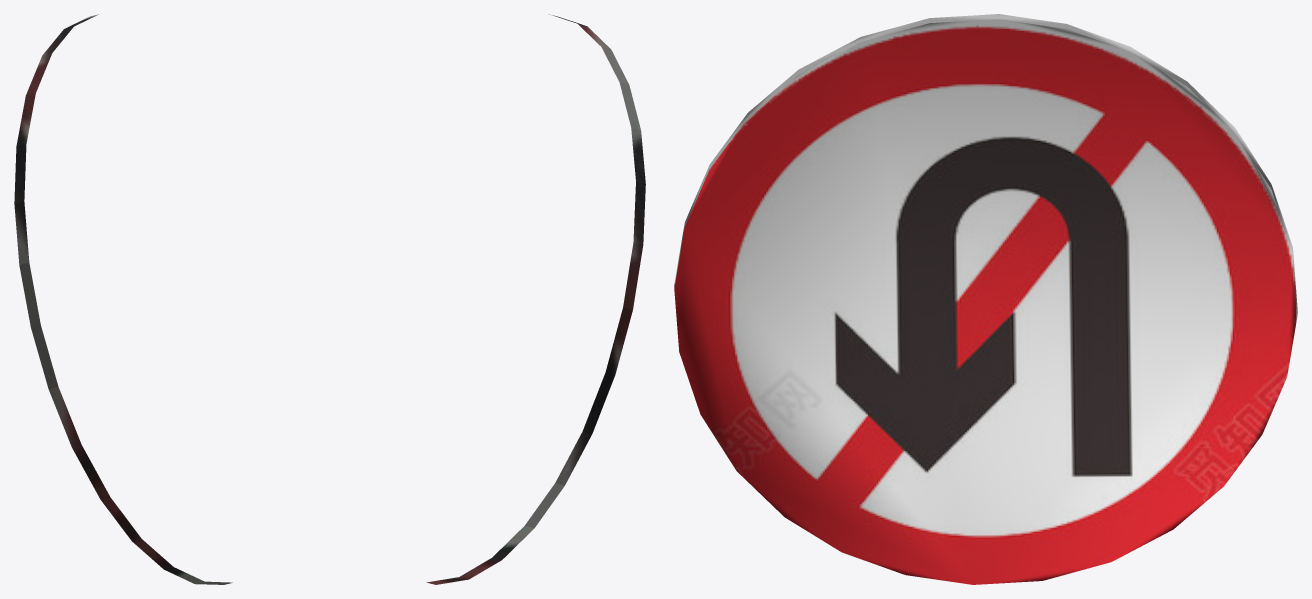
The picture shows the model from 3 angles, left to right: view 1: azimuth 30°, elevation 25°; view 2: azimuth 150°, elevation 25°; view 3: azimuth 270°, elevation 25°; orthographic projection. The views are drawn at different scales.
Parts seen in each view (by area): view 1: model10; view 2: model10; view 3: model10.
Boxes of the visible parts, bbox=[...] form: model10: bbox=[14, 14, 232, 584]; model10: bbox=[426, 14, 645, 584]; model10: bbox=[674, 14, 1297, 584].
Bounding box in the file's own units: 0.0396 × 1.19 × 1.19.
Materials: 3 (3 with a texture image).
